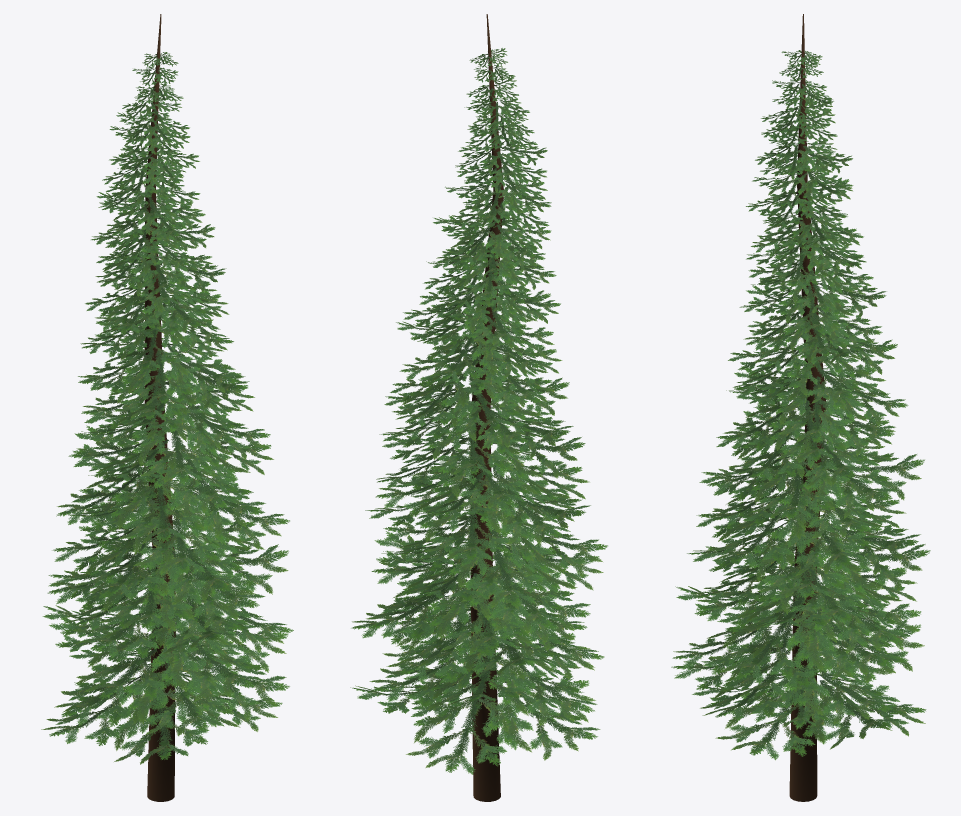
File: Pine.glb
3 views of the same model, side by side, from view 1: azimuth 30°, elevation 25°; view 2: azimuth 150°, elevation 25°; view 3: azimuth 270°, elevation 25° (orthographic).
Visible parts, largest first — view 1: Leaf.001, Leaf.002, Leaf.007, Leaf.006, Leaf.004, Leaf, Leaf.005, Leaf.008, Leaf.003, Leaf.009, Leaf.030, Trunk (+18 smaller); view 2: Leaf, Leaf.003, Leaf.004, Leaf.001, Leaf.006, Leaf.007, Trunk, Leaf.008, Leaf.002, Leaf.005, Leaf.030, Leaf.011 (+18 smaller); view 3: Leaf.030, Leaf.005, Leaf, Leaf.001, Leaf.008, Leaf.003, Leaf.006, Leaf.004, Leaf.002, Leaf.007, Trunk, Leaf.011 (+19 smaller).
Boxes of the visible parts, x1=… form: Leaf.001: x1=49, y1=617, x2=289, y2=736; Leaf.002: x1=42, y1=601, x2=288, y2=704; Leaf.007: x1=56, y1=425, x2=265, y2=543; Leaf.006: x1=47, y1=501, x2=265, y2=628; Leaf.004: x1=52, y1=472, x2=265, y2=604; Leaf: x1=41, y1=630, x2=282, y2=764; Leaf.005: x1=63, y1=472, x2=289, y2=574; Leaf.008: x1=68, y1=420, x2=273, y2=512; Leaf.003: x1=48, y1=540, x2=288, y2=639; Leaf.009: x1=80, y1=396, x2=270, y2=482; Leaf.030: x1=72, y1=566, x2=293, y2=657; Trunk: x1=144, y1=14, x2=175, y2=801; Leaf: x1=350, y1=667, x2=600, y2=774; Leaf.003: x1=366, y1=531, x2=590, y2=653; Leaf.004: x1=381, y1=502, x2=607, y2=608; Leaf.001: x1=369, y1=628, x2=597, y2=725; Leaf.006: x1=371, y1=526, x2=603, y2=633; Leaf.007: x1=375, y1=448, x2=589, y2=544; Trunk: x1=470, y1=14, x2=503, y2=801; Leaf.008: x1=376, y1=426, x2=585, y2=508; Leaf.002: x1=382, y1=594, x2=604, y2=682; Leaf.005: x1=365, y1=468, x2=590, y2=560; Leaf.030: x1=351, y1=543, x2=587, y2=666; Leaf.011: x1=390, y1=333, x2=554, y2=435; Leaf.030: x1=675, y1=582, x2=921, y2=684; Leaf.005: x1=696, y1=449, x2=906, y2=576; Leaf: x1=692, y1=670, x2=926, y2=760; Leaf.001: x1=671, y1=619, x2=924, y2=724; Leaf.008: x1=707, y1=405, x2=898, y2=518; Leaf.003: x1=696, y1=554, x2=917, y2=653; Leaf.006: x1=693, y1=529, x2=930, y2=625; Leaf.004: x1=687, y1=508, x2=920, y2=597; Leaf.002: x1=672, y1=578, x2=908, y2=697; Leaf.007: x1=699, y1=449, x2=924, y2=538; Trunk: x1=789, y1=14, x2=825, y2=801; Leaf.011: x1=726, y1=364, x2=908, y2=442.
Size of the model in its own units: 5.19 by 15.29 by 5.16.
2 materials, 1 textured.
